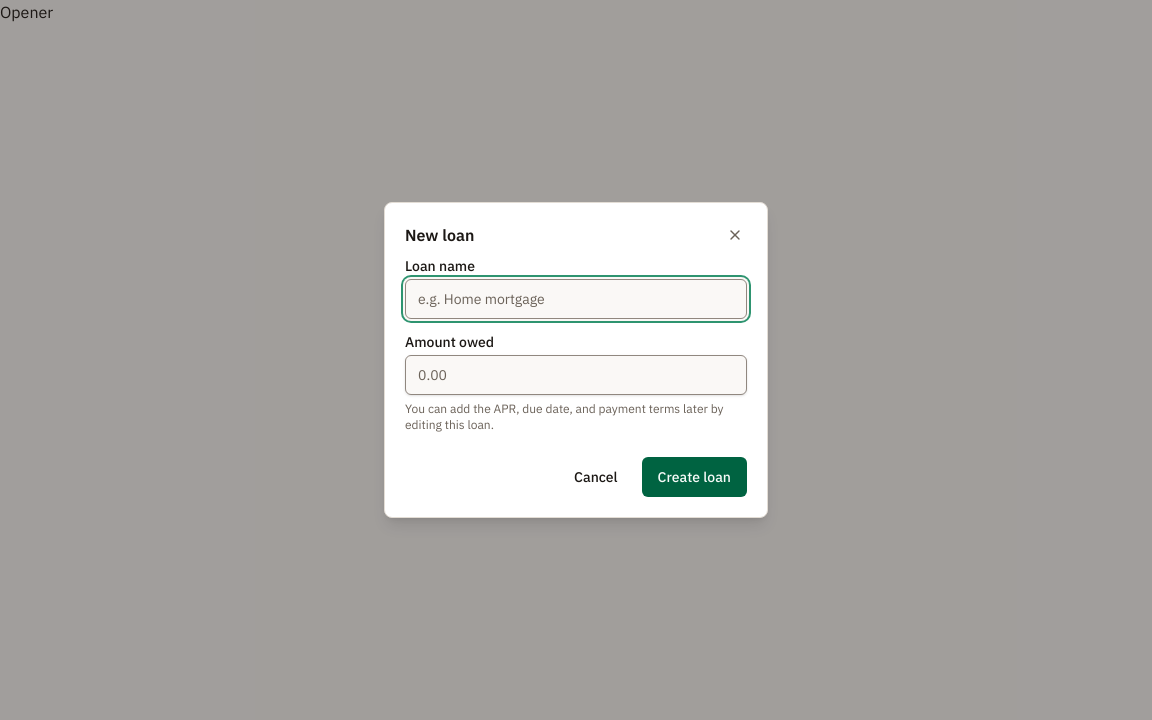
NewLoanDialog on the shared Dialog (personal-cfo-4d8.6.2) › asks for a name first
Click the button "Create loan": click(694, 477) [642,457,747,497]
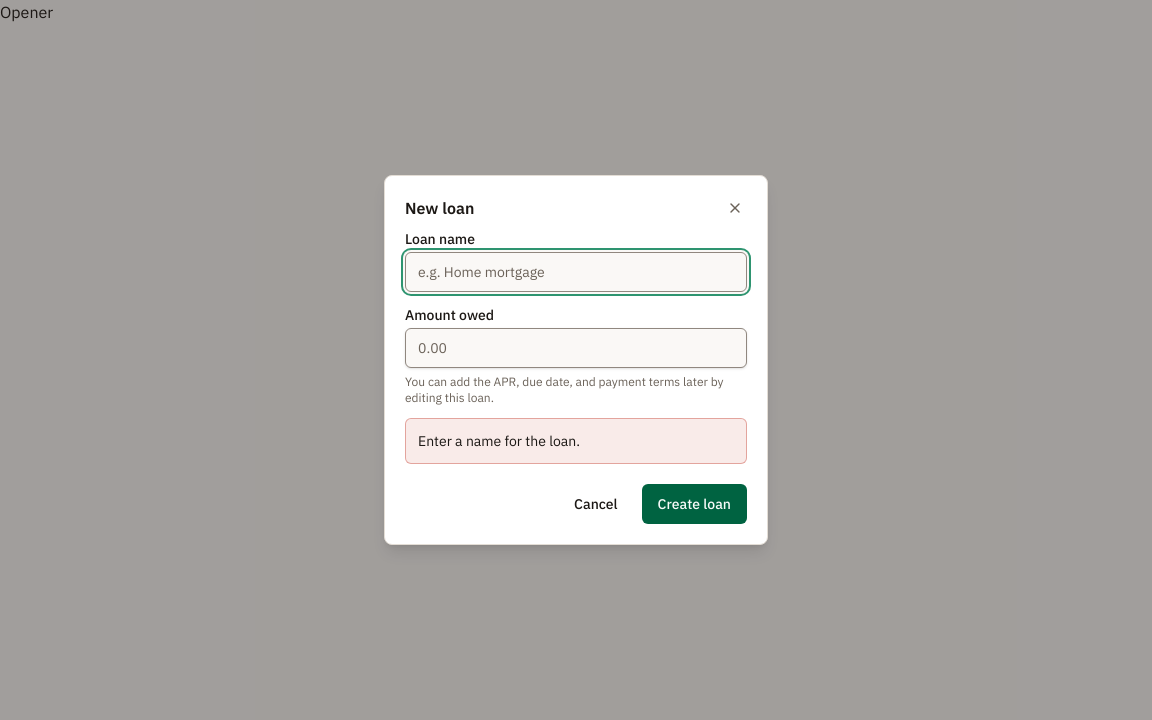
Expected: the message reads "Enter a name for the loan.", [418,432,580,450]
